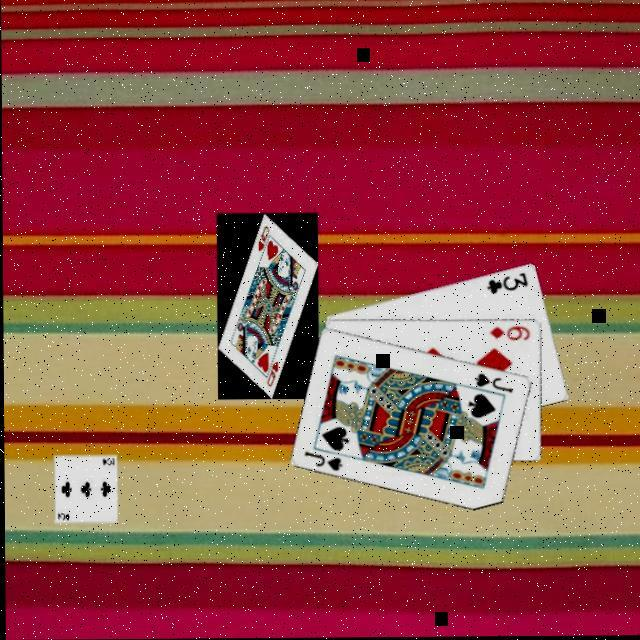3C: (481, 271, 529, 299)
6D: (484, 325, 530, 345)
JS: (469, 373, 513, 399), (299, 450, 343, 476)
